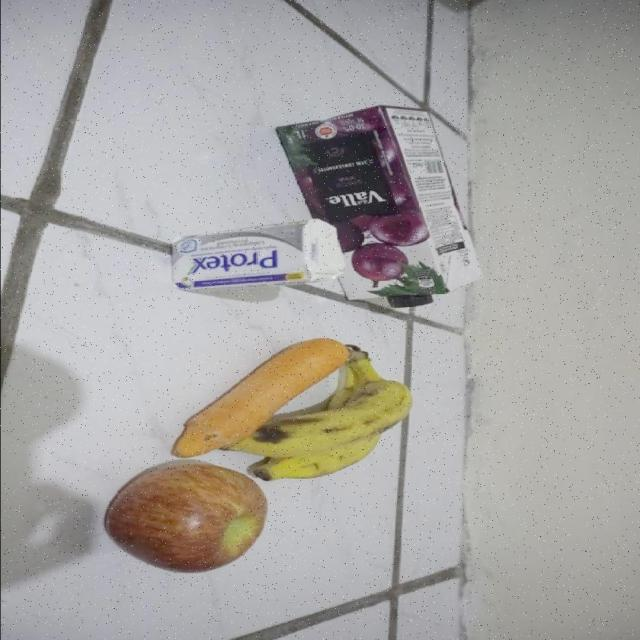Apple: (99, 483, 275, 576)
Banana: (232, 413, 419, 482)
Carrot: (196, 333, 347, 415)
Soap: (170, 218, 342, 291)
